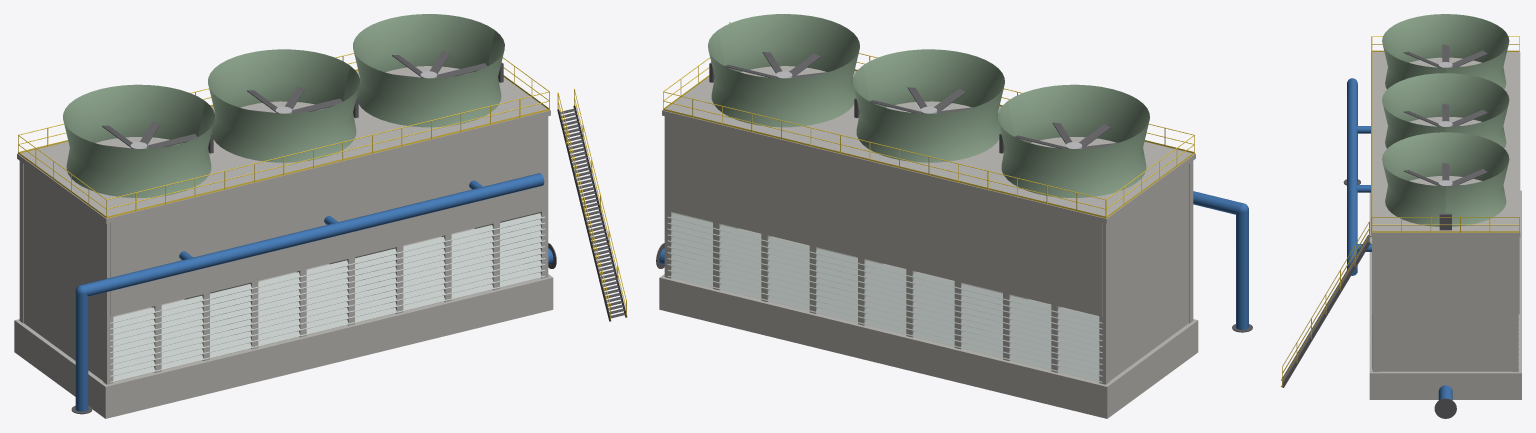
File: SM_FurnaceCoolingTower.fbx
3 views of the same model, side by side, from view 1: azimuth 30°, elevation 25°; view 2: azimuth 150°, elevation 25°; view 3: azimuth 270°, elevation 25° (orthographic). The views are drawn at different scales.
Visible parts, largest first — view 1: CT_Structure, CT_Fan2, CT_Fan1, CT_Fan3; view 2: CT_Structure, CT_Fan2, CT_Fan3, CT_Fan1; view 3: CT_Structure, CT_Fan1, CT_Fan2, CT_Fan3.
Boxes of the visible parts, <box> form: CT_Structure: <box>14,14,627,418</box>; CT_Fan2: <box>247,86,342,113</box>; CT_Fan1: <box>102,122,197,148</box>; CT_Fan3: <box>392,51,487,78</box>; CT_Structure: <box>656,14,1252,418</box>; CT_Fan2: <box>869,87,973,113</box>; CT_Fan3: <box>725,52,827,78</box>; CT_Fan1: <box>1014,122,1118,148</box>; CT_Structure: <box>1281,14,1521,418</box>; CT_Fan1: <box>1403,44,1487,67</box>; CT_Fan2: <box>1404,103,1487,126</box>; CT_Fan3: <box>1404,163,1487,185</box>.
Size of the model in its own units: 3308 by 1492 by 1549.
